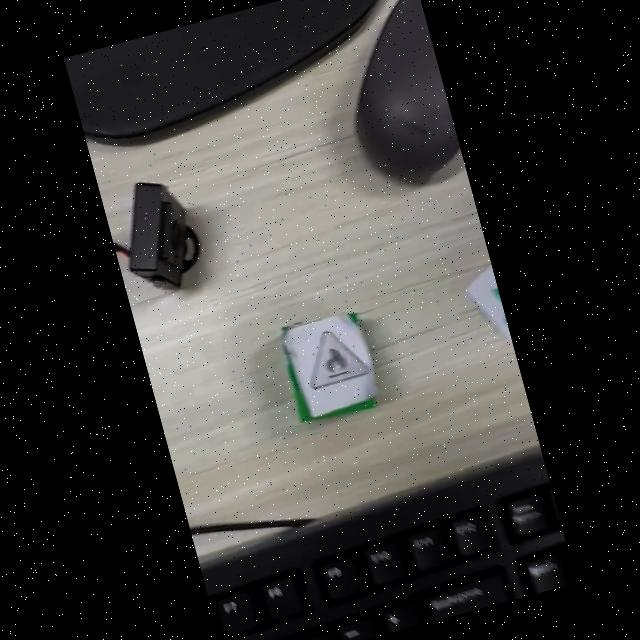Fire: (310, 330, 369, 388)
